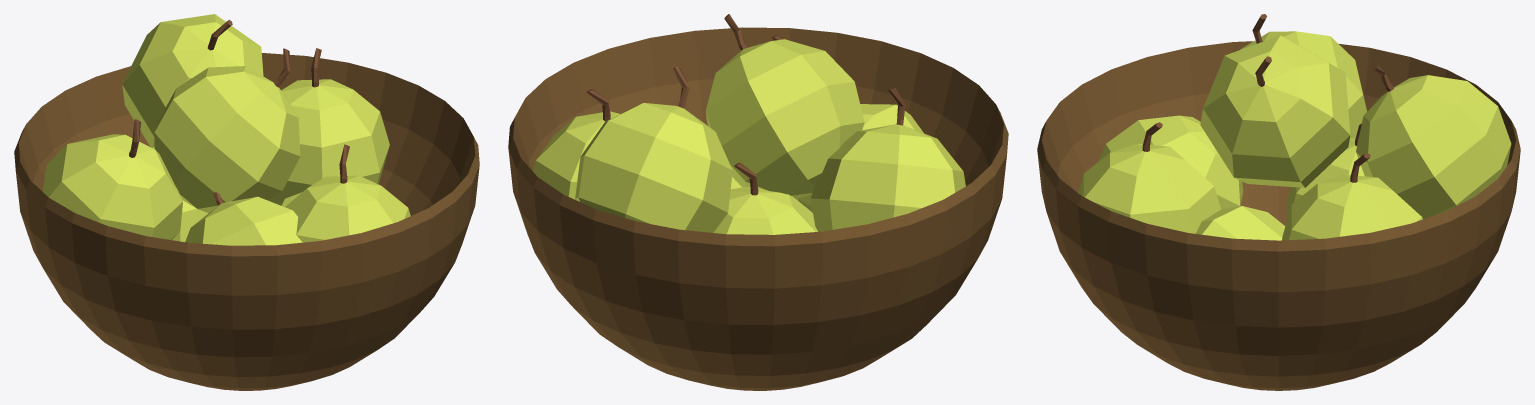
Rendered from greenapplebowl.fbx.
The picture shows the model from 3 angles, left to right: view 1: azimuth 30°, elevation 25°; view 2: azimuth 150°, elevation 25°; view 3: azimuth 270°, elevation 25°; orthographic projection. The views are drawn at different scales.
Visible parts, largest first — view 1: Sphere; view 2: Sphere; view 3: Sphere.
Part boxes in pixels (<box>): Sphere: <box>14,14,479,390</box>; Sphere: <box>508,14,1008,390</box>; Sphere: <box>1037,14,1520,390</box>.
Bounding box in the file's own units: 200 × 150 × 200.
